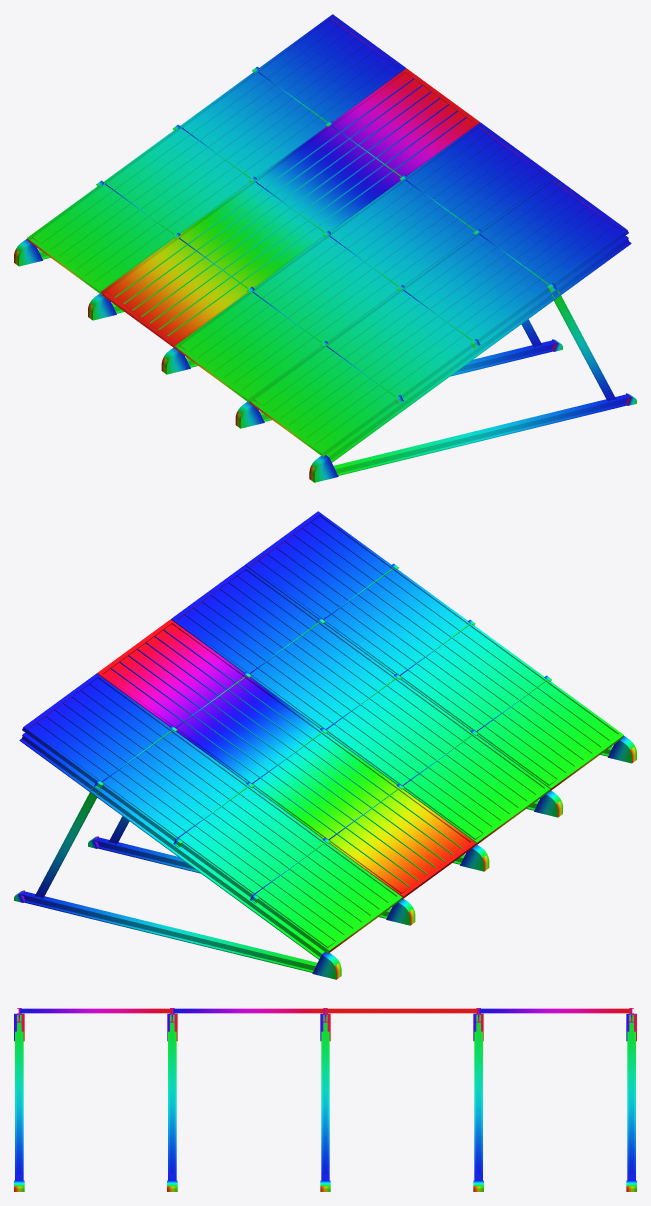
Rendered from solar.obj.
The picture shows the model from 3 angles, top to bottom: view 1: azimuth 30°, elevation 25°; view 2: azimuth 150°, elevation 25°; view 3: azimuth 270°, elevation 25°; orthographic projection. The views are drawn at different scales.
Visible parts, largest first — view 1: pasted__polySurface1 pasted__group36 group1, pasted__group36 group1 pasted__polySurface9, pasted__group36 group1 pasted__polySurface2, pasted__group36 group1 pasted__polySurface10, group1 pasted__polySurface3 pasted__group37, group1 pasted__group37 pasted__group38 pasted__polySurface8, group1 pasted__group37 pasted__group39 pasted__polySurface8, group1 pasted__group37 pasted__group38 pasted__polySurface11; view 2: pasted__group36 group1 pasted__polySurface10, pasted__group36 group1 pasted__polySurface2, pasted__polySurface1 pasted__group36 group1, pasted__group36 group1 pasted__polySurface9, pasted__group36 group1 pasted__polySurface7, group1 pasted__group37 pasted__group42 pasted__polySurface8, group1 pasted__group37 pasted__group41 pasted__polySurface8, group1 pasted__group37 pasted__group42 pasted__polySurface11; view 3: group1 pasted__group37 pasted__group40 pasted__polySurface8, pasted__polySurface1 pasted__group36 group1, pasted__group36 group1 pasted__polySurface2, pasted__group36 group1 pasted__polySurface9, pasted__group36 group1 pasted__polySurface10, group1 pasted__group37 pasted__group38 pasted__polySurface11, group1 pasted__group37 pasted__group39 pasted__polySurface11, group1 pasted__group37 pasted__group40 pasted__polySurface11, group1 pasted__group37 pasted__group41 pasted__polySurface11, group1 pasted__group37 pasted__group42 pasted__polySurface11, group1 pasted__group37 pasted__group38 pasted__polySurface8, group1 pasted__group37 pasted__group39 pasted__polySurface8 (+2 smaller).
Part boxes in pixels (left/top/right/bottom): pasted__polySurface1 pasted__group36 group1: left=248, top=176, right=628, bottom=456; pasted__group36 group1 pasted__polySurface9: left=100, top=68, right=479, bottom=348; pasted__group36 group1 pasted__polySurface2: left=174, top=122, right=553, bottom=402; pasted__group36 group1 pasted__polySurface10: left=27, top=14, right=405, bottom=294; group1 pasted__polySurface3 pasted__group37: left=326, top=235, right=631, bottom=462; group1 pasted__group37 pasted__group38 pasted__polySurface8: left=333, top=394, right=630, bottom=475; group1 pasted__group37 pasted__group39 pasted__polySurface8: left=260, top=340, right=556, bottom=421; group1 pasted__group37 pasted__group38 pasted__polySurface11: left=551, top=290, right=616, bottom=401; pasted__group36 group1 pasted__polySurface10: left=22, top=673, right=402, bottom=953; pasted__group36 group1 pasted__polySurface2: left=171, top=565, right=550, bottom=845; pasted__polySurface1 pasted__group36 group1: left=245, top=511, right=623, bottom=791; pasted__group36 group1 pasted__polySurface9: left=97, top=619, right=476, bottom=899; pasted__group36 group1 pasted__polySurface7: left=19, top=732, right=324, bottom=959; group1 pasted__group37 pasted__group42 pasted__polySurface8: left=20, top=891, right=317, bottom=972; group1 pasted__group37 pasted__group41 pasted__polySurface8: left=94, top=837, right=390, bottom=918; group1 pasted__group37 pasted__group42 pasted__polySurface11: left=34, top=787, right=99, bottom=898; group1 pasted__group37 pasted__group40 pasted__polySurface8: left=321, top=1031, right=329, bottom=1180; pasted__polySurface1 pasted__group36 group1: left=20, top=1008, right=171, bottom=1013; pasted__group36 group1 pasted__polySurface2: left=173, top=1008, right=324, bottom=1013; pasted__group36 group1 pasted__polySurface9: left=326, top=1008, right=477, bottom=1013; pasted__group36 group1 pasted__polySurface10: left=479, top=1008, right=630, bottom=1013; group1 pasted__group37 pasted__group38 pasted__polySurface11: left=17, top=1015, right=21, bottom=1174; group1 pasted__group37 pasted__group39 pasted__polySurface11: left=170, top=1015, right=174, bottom=1174; group1 pasted__group37 pasted__group40 pasted__polySurface11: left=323, top=1015, right=327, bottom=1174; group1 pasted__group37 pasted__group41 pasted__polySurface11: left=476, top=1015, right=480, bottom=1174; group1 pasted__group37 pasted__group42 pasted__polySurface11: left=629, top=1015, right=633, bottom=1174; group1 pasted__group37 pasted__group38 pasted__polySurface8: left=15, top=1031, right=23, bottom=1180; group1 pasted__group37 pasted__group39 pasted__polySurface8: left=168, top=1031, right=176, bottom=1180.
Size of the model in its own units: 3.82 by 1.97 by 6.17.
1 material, 1 textured.
